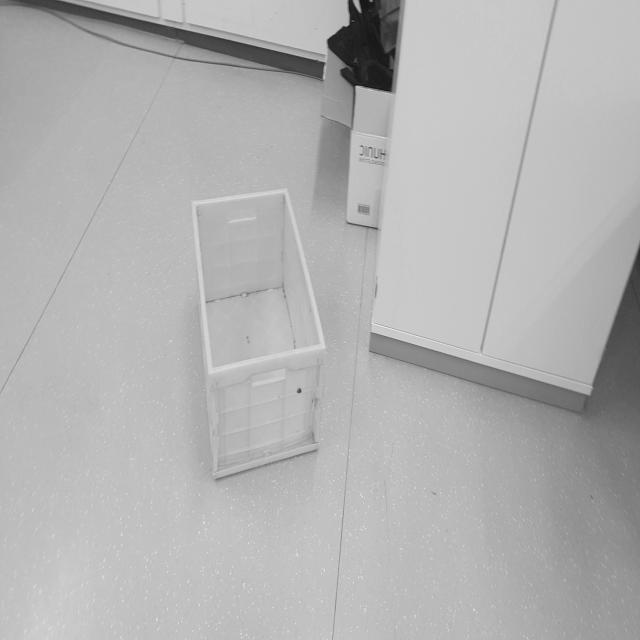box: (190, 167, 330, 496)
